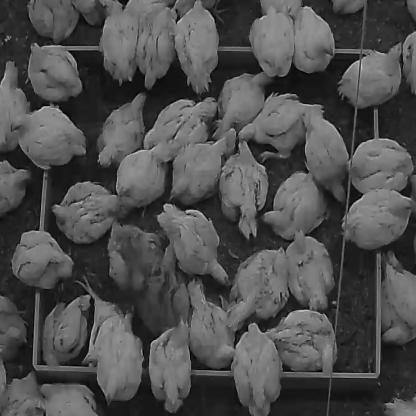chicken: (158, 202, 232, 285), (238, 92, 324, 161), (52, 180, 132, 243), (144, 96, 219, 162), (11, 104, 87, 169), (221, 140, 270, 239), (228, 246, 290, 324), (233, 322, 283, 416), (261, 171, 330, 239), (264, 308, 338, 371), (76, 272, 126, 363), (96, 313, 145, 405), (337, 40, 403, 108), (342, 189, 416, 249), (143, 240, 190, 334), (212, 70, 274, 138), (175, 0, 220, 93), (305, 110, 350, 201), (190, 280, 236, 368), (285, 230, 335, 309), (108, 220, 163, 291), (150, 320, 192, 412), (172, 136, 228, 204), (98, 90, 148, 166), (347, 138, 414, 194), (136, 3, 178, 89), (13, 229, 74, 288), (43, 293, 92, 365), (116, 141, 168, 208), (28, 41, 82, 101), (250, 5, 295, 76), (381, 251, 415, 344), (102, 3, 140, 86), (295, 6, 335, 72), (1, 61, 29, 152), (29, 0, 80, 43), (42, 382, 101, 415), (1, 371, 44, 415), (1, 293, 27, 360), (1, 159, 30, 216), (172, 0, 224, 23), (70, 0, 110, 24), (403, 29, 415, 96), (261, 0, 303, 15), (383, 396, 416, 414), (332, 0, 366, 15), (126, 0, 171, 10), (407, 0, 415, 23)
